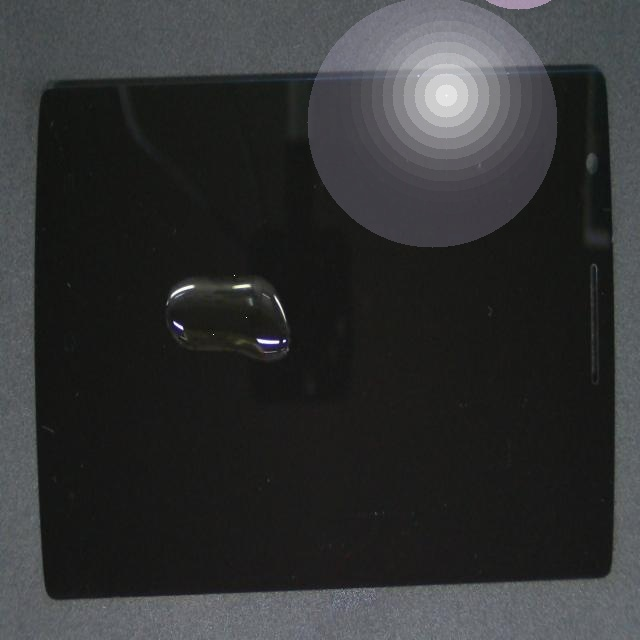oil: (153, 110, 301, 416)
